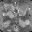people: (4, 2, 15, 12), (19, 18, 30, 28), (2, 11, 14, 19), (17, 6, 26, 16), (2, 20, 11, 29)
